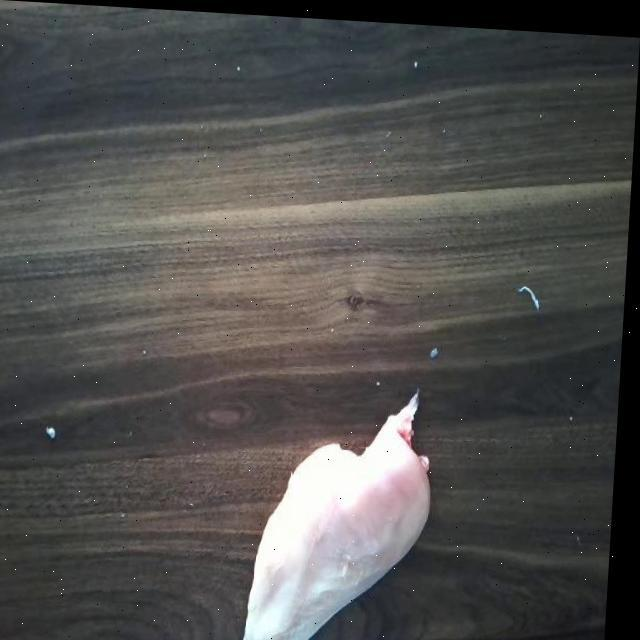breast: (247, 372, 446, 640)
